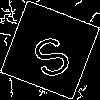S: (25, 25, 75, 81)
